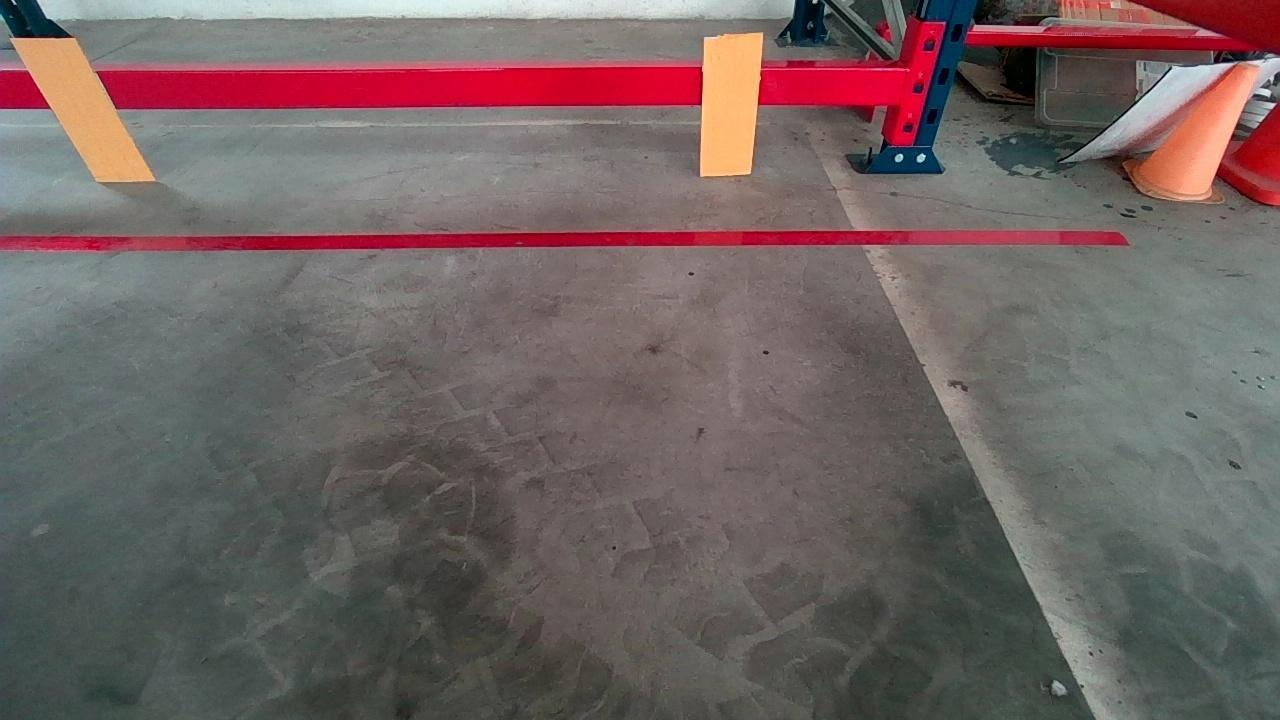h_rack: (6, 66, 905, 112)
orange_strip: (14, 41, 156, 181), (700, 35, 761, 174)
red_line: (5, 228, 1119, 261)
